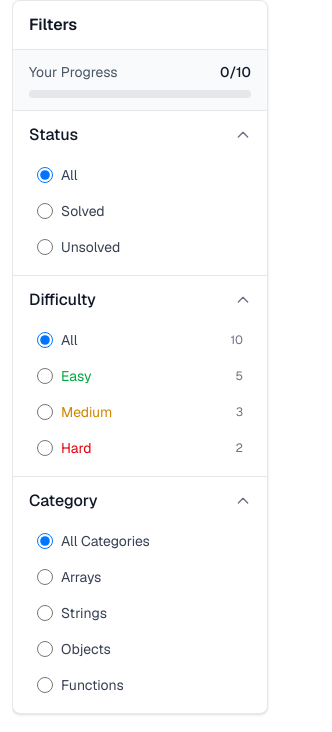
FilterSidebar › Collapsible sections › should collapse Category section when clicking header
What coordinates should you click on to do the following:
click the button "Category"
I would click on:
 (140, 501)
Its box is left=13, top=477, right=267, bottom=525.
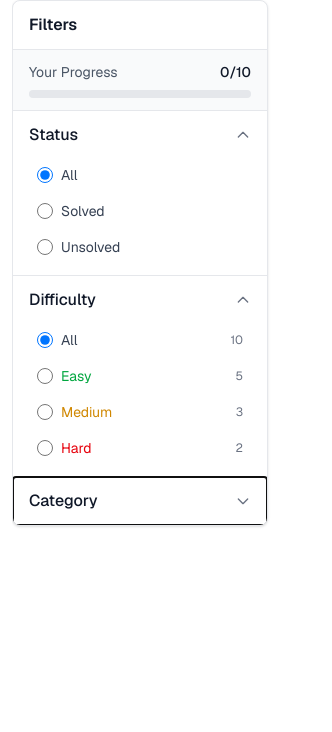
Expected: the text "All Categories" is gone
Expected: the text "Arrays" is gone
